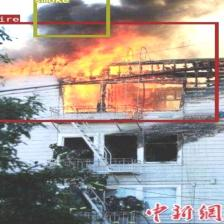fire: (0, 21, 217, 121)
smoke: (32, 0, 109, 36)
